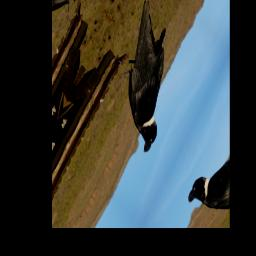Crow: (95, 0, 199, 159)
